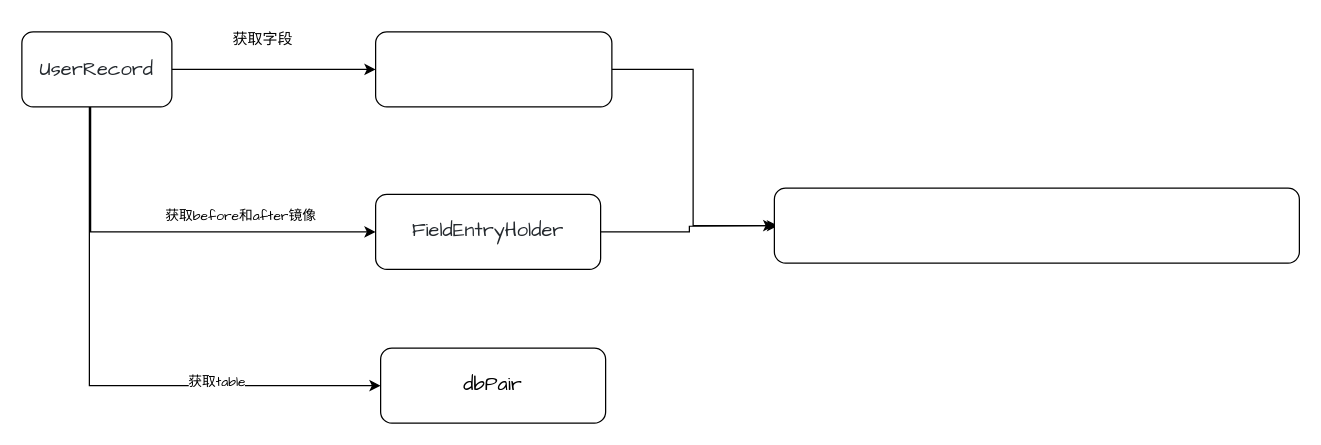
The diagram is 1321 pixels wide and 445 high, and some of its shapes have lost their labels. Here are the shapes that lost their labels. From the top down, the centre of each, then its label:
At [493,69]: "List < Field >".
At [1036,225]: "fieldConverter. convert ( field , beforeImage )".
